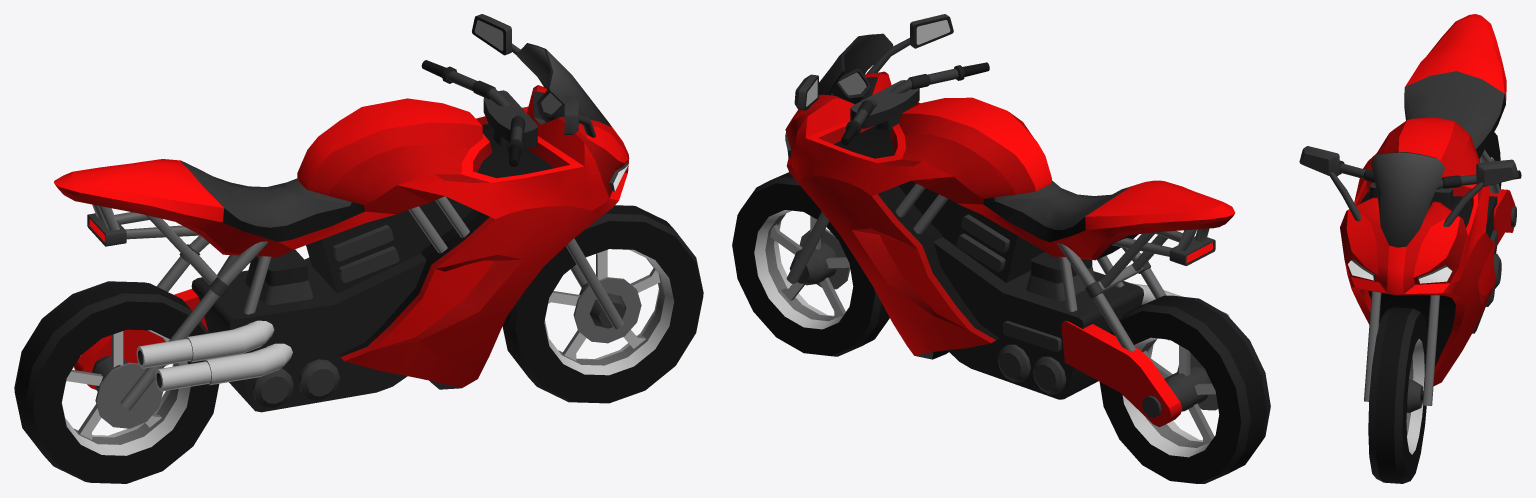
Rendered from Bike_007.glb.
3 views of the same model, side by side, from view 1: azimuth 30°, elevation 25°; view 2: azimuth 150°, elevation 25°; view 3: azimuth 270°, elevation 25° (orthographic). The views are drawn at different scales.
Parts seen in each view (by area): view 1: Bike_007, wheel_1_Bike_007_Wheel_2L, wheel_0_Bike_007_Wheel_1R; view 2: Bike_007, wheel_1_Bike_007_Wheel_2L, wheel_0_Bike_007_Wheel_1R; view 3: Bike_007, wheel_0_Bike_007_Wheel_1R, wheel_1_Bike_007_Wheel_2L.
Boxes of the visible parts, box(x1,y1,x2,y2) form: Bike_007: box(54, 14, 629, 412); wheel_1_Bike_007_Wheel_2L: box(14, 235, 268, 483); wheel_0_Bike_007_Wheel_1R: box(502, 205, 703, 403); Bike_007: box(785, 14, 1235, 399); wheel_1_Bike_007_Wheel_2L: box(1057, 243, 1270, 483); wheel_0_Bike_007_Wheel_1R: box(732, 172, 889, 356); Bike_007: box(1299, 14, 1521, 405); wheel_0_Bike_007_Wheel_1R: box(1368, 307, 1427, 483); wheel_1_Bike_007_Wheel_2L: box(1479, 132, 1516, 253).
Size of the model in its own units: 2.41 by 1.32 by 0.8818.
2 materials, 2 textured.
